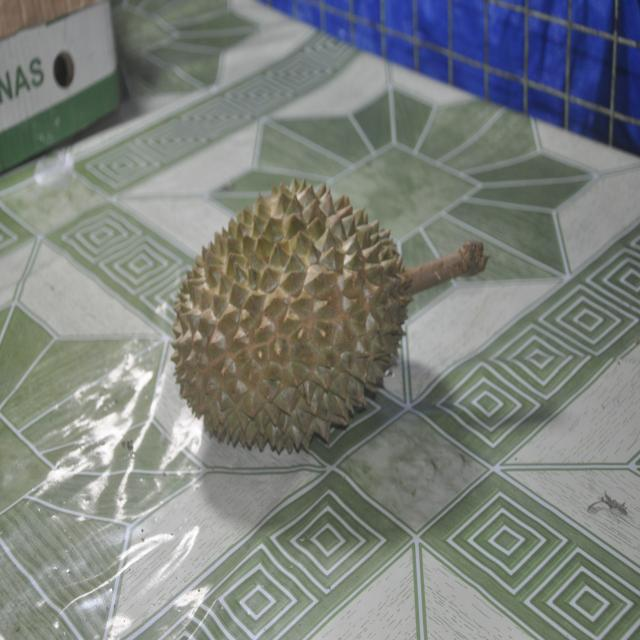mature: (171, 180, 489, 452)
